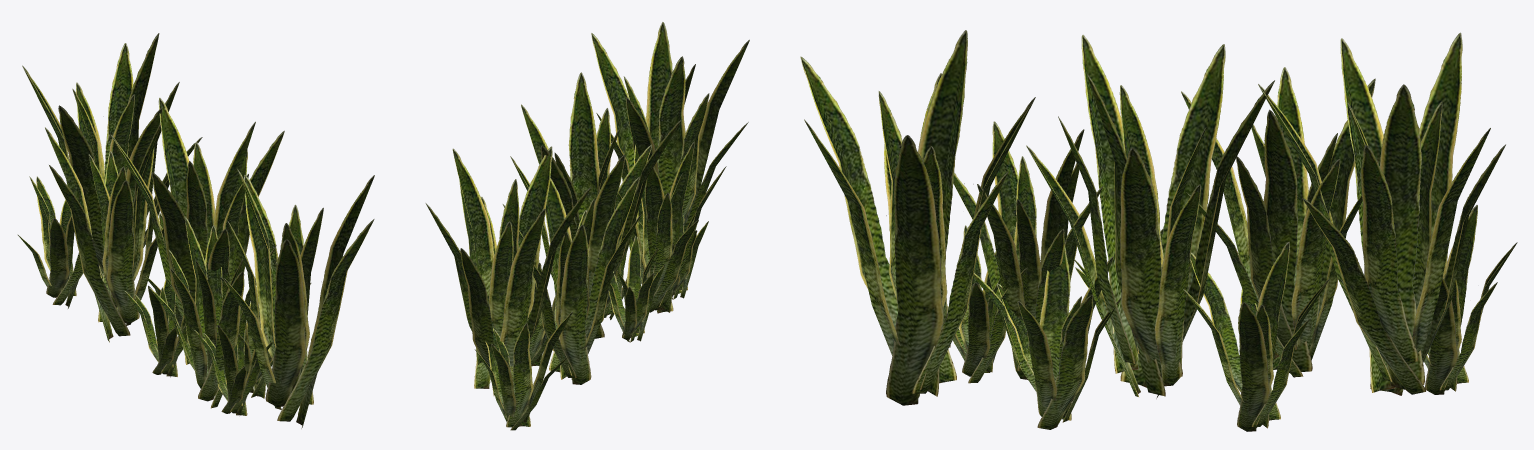
Rendered from block_plant.fbx.
3 views of the same model, side by side, from view 1: azimuth 30°, elevation 25°; view 2: azimuth 150°, elevation 25°; view 3: azimuth 270°, elevation 25° (orthographic). The views are drawn at different scales.
Parts seen in each view (by area): view 1: defaultMaterial.001; view 2: defaultMaterial.001; view 3: defaultMaterial.001.
Boxes of the visible parts, x1,y1,x2,y2 form: defaultMaterial.001: [17, 33, 374, 428]; defaultMaterial.001: [425, 22, 749, 430]; defaultMaterial.001: [800, 30, 1517, 431].
Size of the model in its own units: 4224 by 5650 by 10082.
